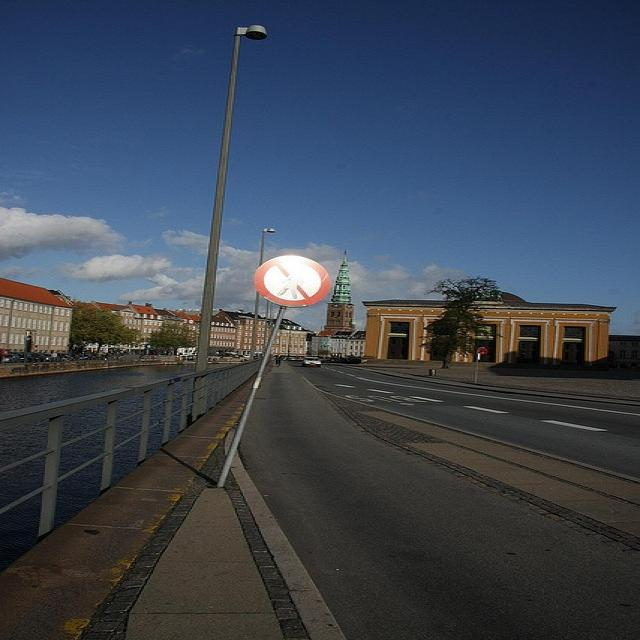car: (298, 354, 322, 365), (0, 352, 19, 362)
pole: (196, 36, 246, 362), (212, 304, 290, 486)
